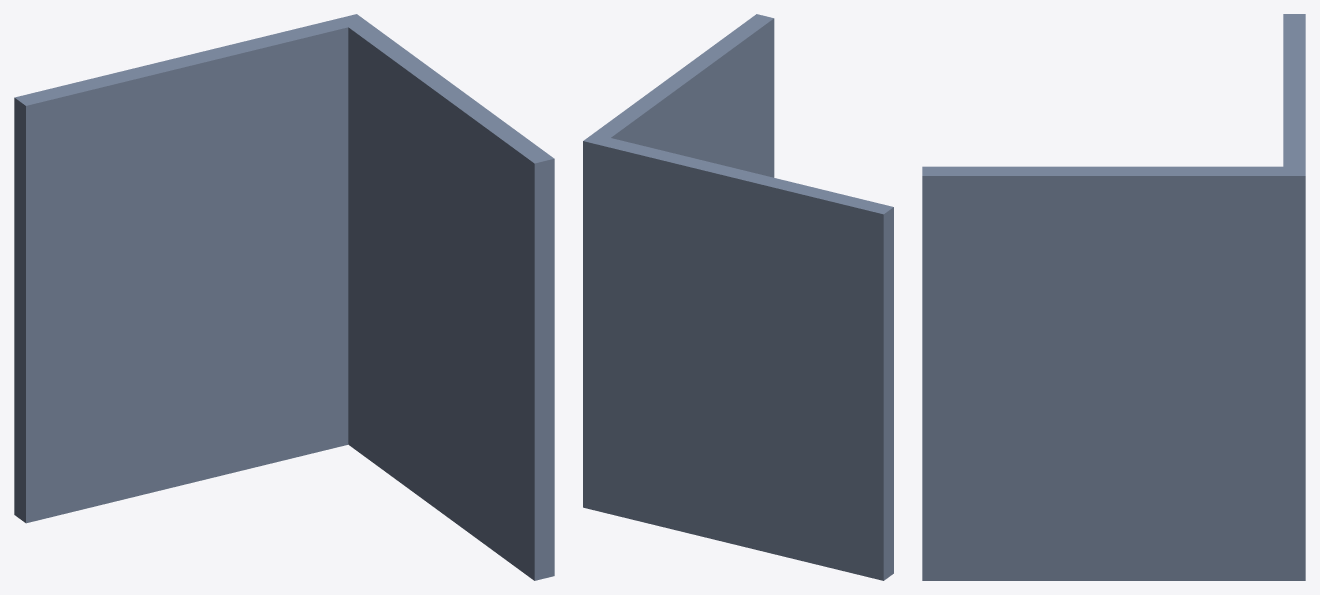
File: Wall3_C1_06.fbx
3 views of the same model, side by side, from view 1: azimuth 30°, elevation 25°; view 2: azimuth 150°, elevation 25°; view 3: azimuth 270°, elevation 25° (orthographic). The views are drawn at different scales.
Parts seen in each view (by area): view 1: Wall3_C1_06; view 2: Wall3_C1_06; view 3: Wall3_C1_06.
Part boxes in pixels (left/top/right/bottom): Wall3_C1_06: left=14, top=14, right=554, bottom=580; Wall3_C1_06: left=583, top=14, right=893, bottom=580; Wall3_C1_06: left=922, top=14, right=1305, bottom=580.
Bounding box in the file's own units: 258 × 300 × 258.
